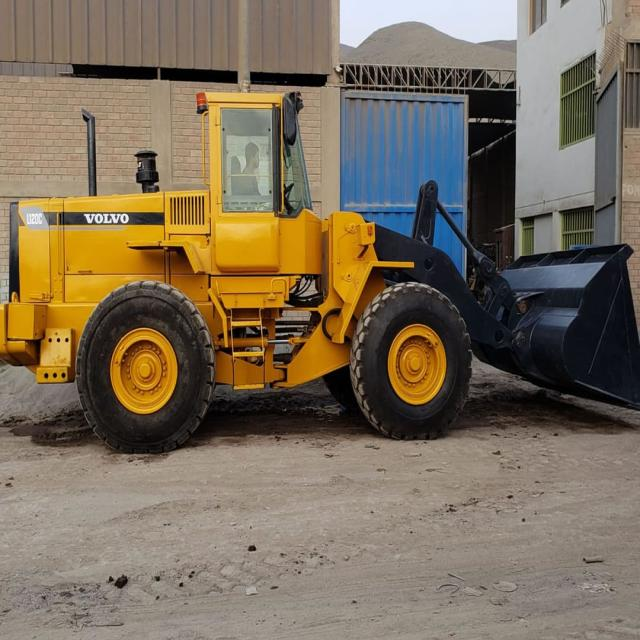buldozerpayloadergrader: (0, 68, 640, 440)
